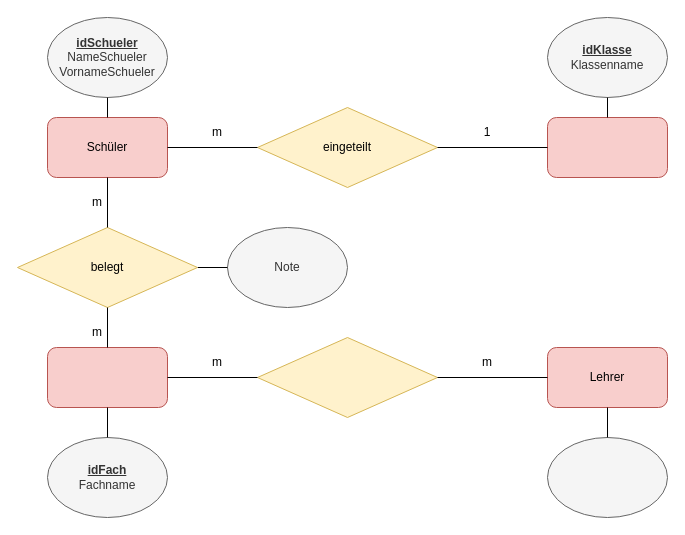
The diagram is 685 pixels wide and 535 high, and some of its shapes have lost their labels. Here are the shapes that lost their labels. From the top down, the box of each, then its label:
(546, 116, 668, 178): Klasse
(46, 346, 168, 408): Fach
(256, 336, 438, 418): unterrichtet
(546, 436, 668, 518): idLehrer NameLehrer VornameLehrer
